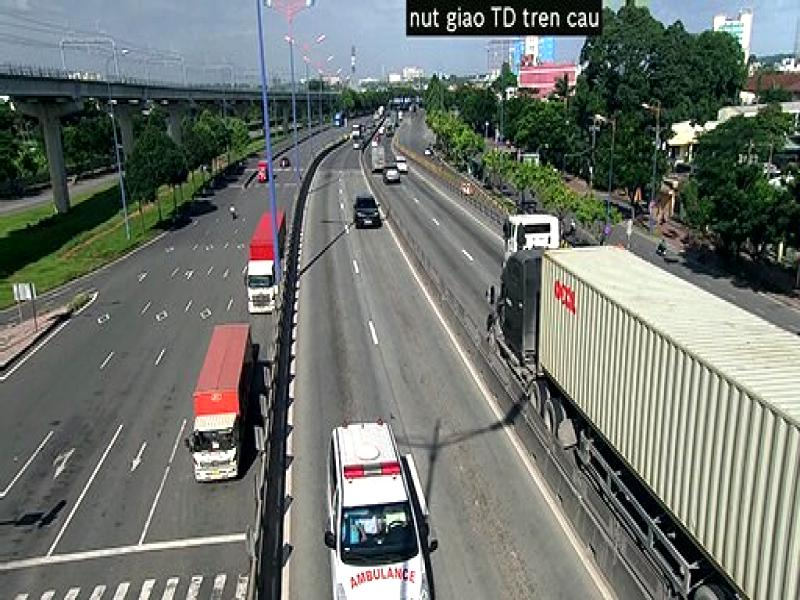truck: (484, 242, 800, 599), (182, 315, 259, 483), (245, 205, 288, 313)
